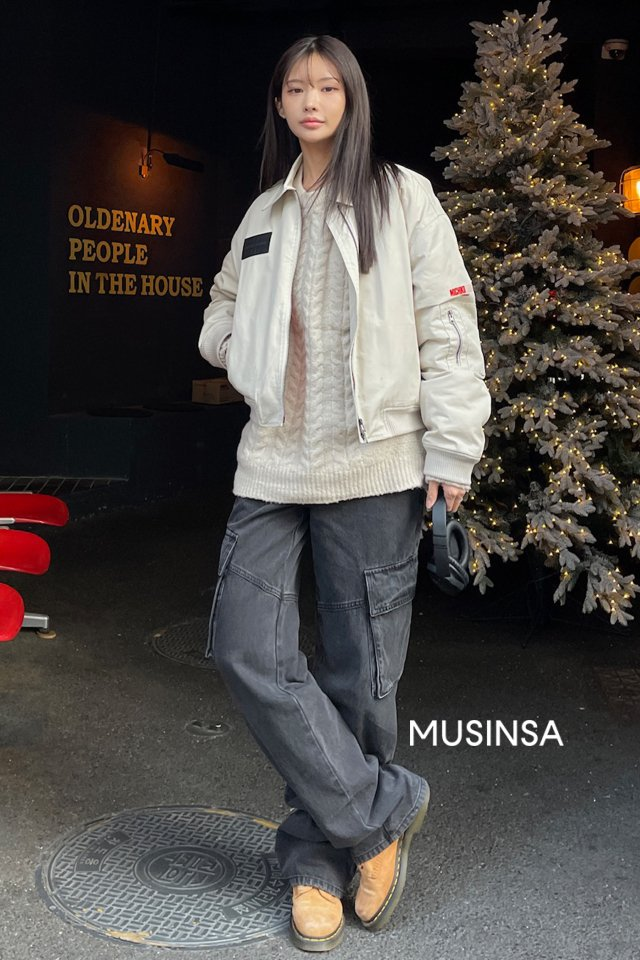Headphone: (428, 498, 479, 608)
Jeans: (205, 477, 433, 878)
Outer: (191, 151, 503, 459)
Shoes: (281, 773, 437, 953)
